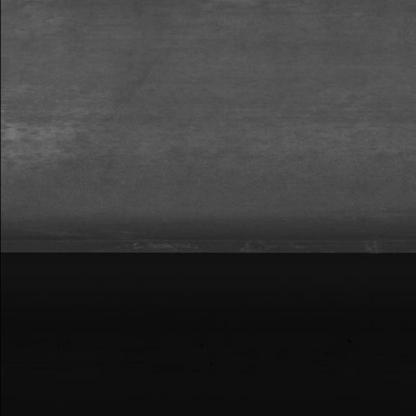silk_spot: (244, 105, 378, 171), (26, 104, 114, 167), (162, 110, 210, 170)
